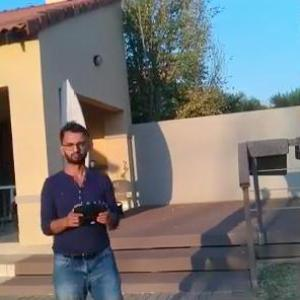follow: (40, 116, 132, 299)
